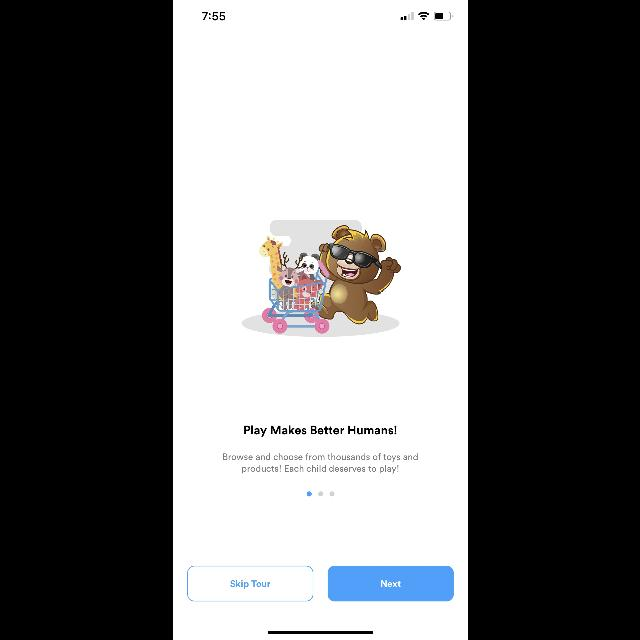image: (240, 220, 400, 336)
pageindicator: (306, 492, 334, 496)
text: (222, 453, 418, 473), (244, 426, 396, 436)
textbutton: (327, 566, 453, 600), (187, 566, 313, 600)
uppertaskbar: (202, 12, 452, 20)
